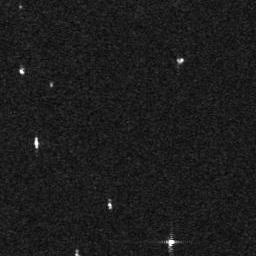ship: (34, 135, 40, 149), (176, 56, 185, 65), (168, 238, 176, 247), (18, 68, 24, 74)
